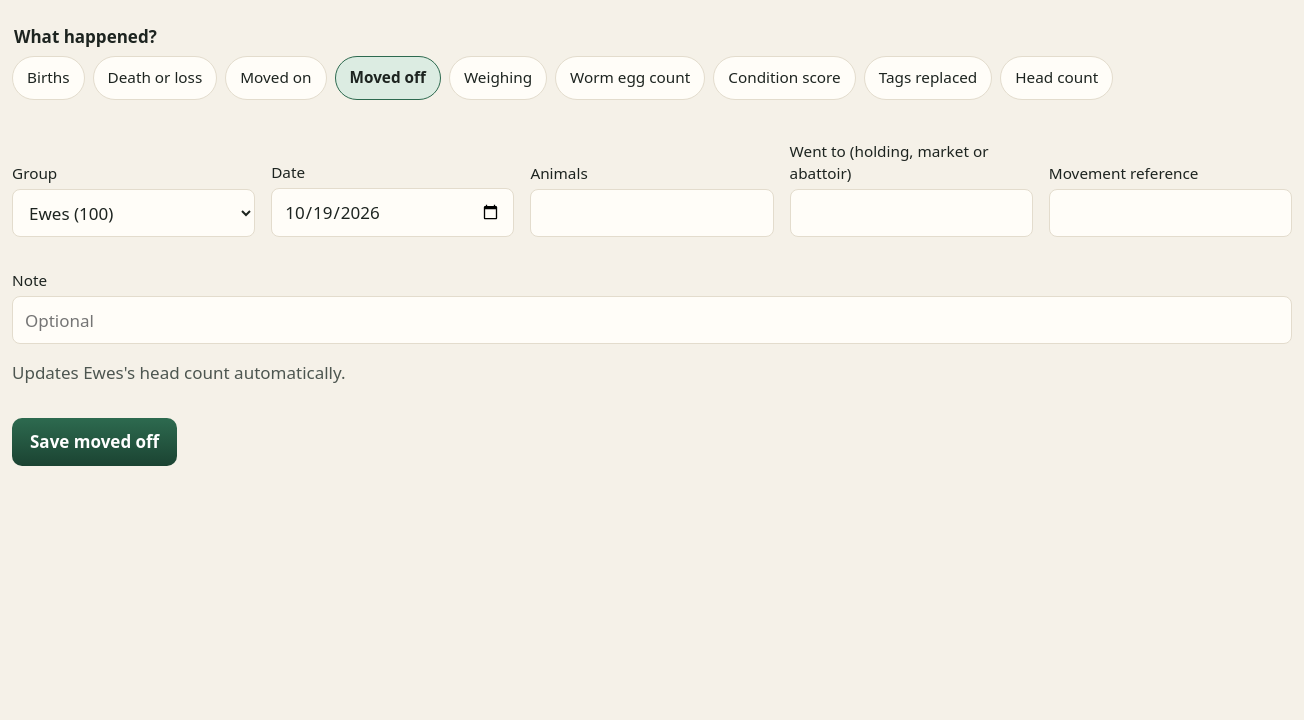
it: RegisterEventForm (v3) › asks where animals moved off to, and shows server errors
The width and height of the screenshot is (1304, 720).
Type "5" into the number field labelled "Animals" at (652, 213), box [530, 189, 774, 237]
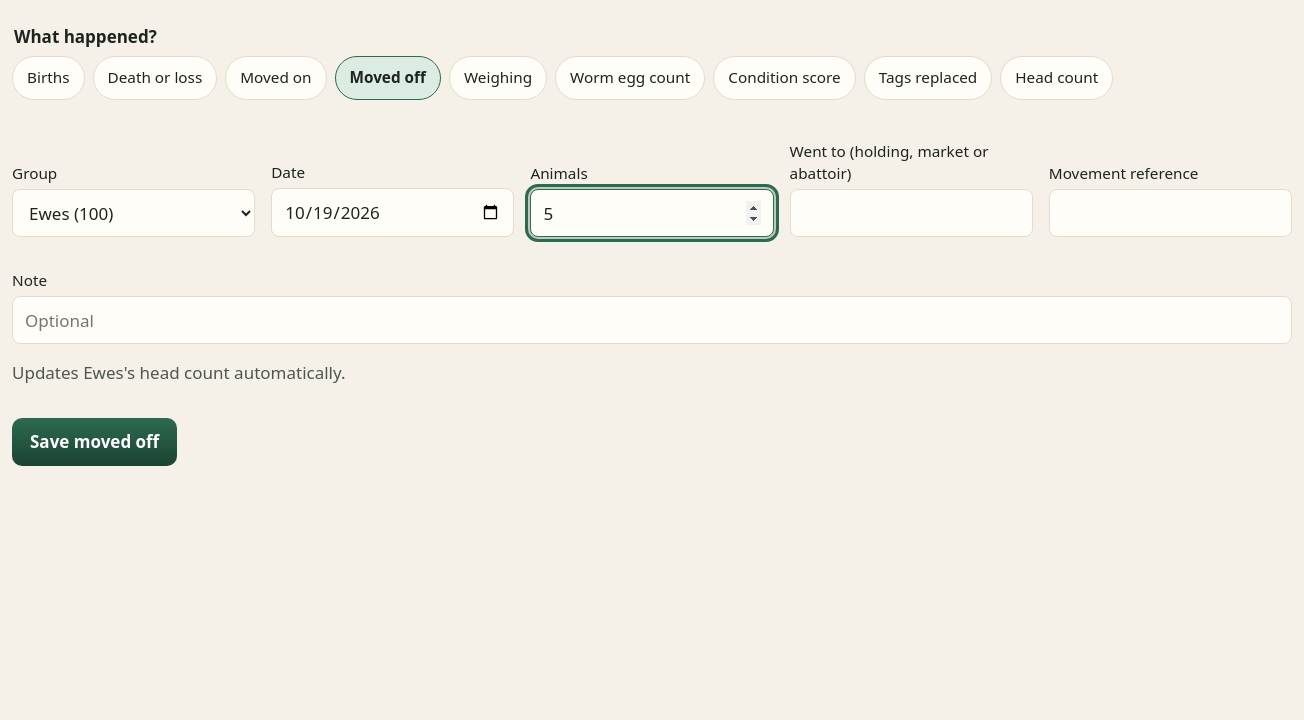
Type "Market" into the field labelled "Went to (holding, market or abattoir)" at (911, 213), box [790, 189, 1033, 237]
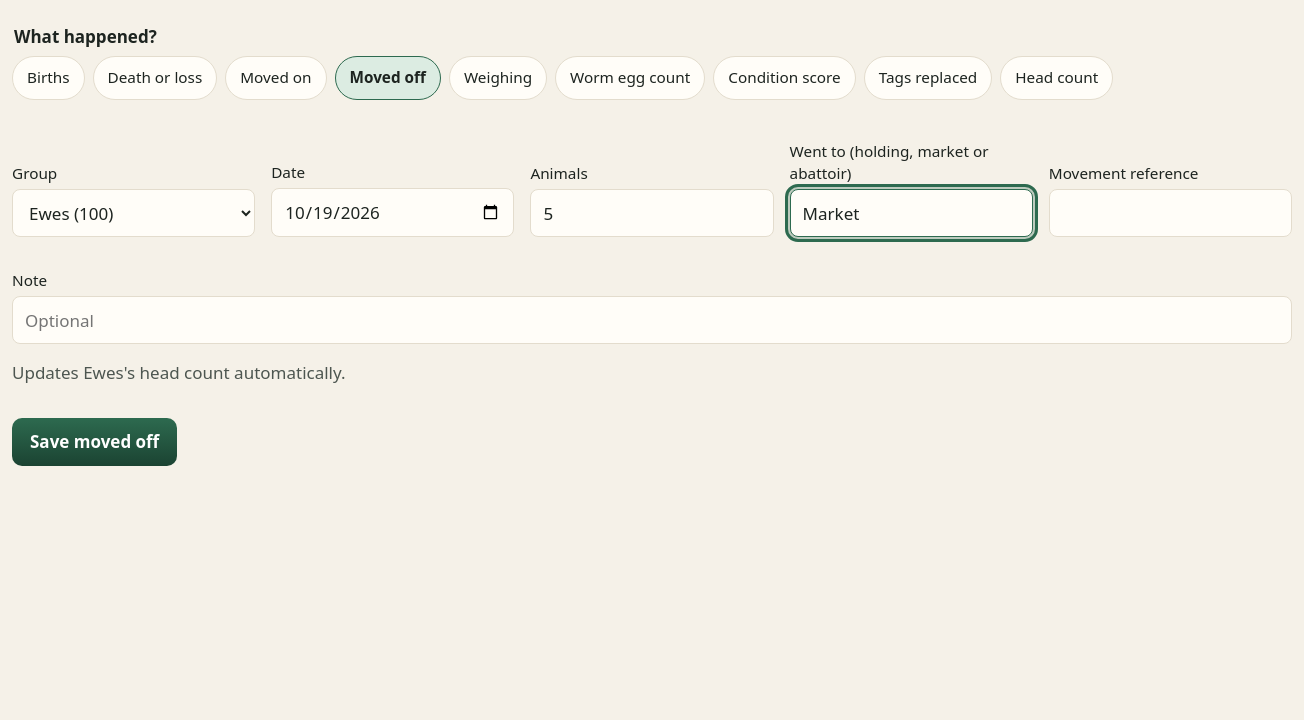
Click the button "Save moved off" at (95, 442), box [12, 418, 177, 466]
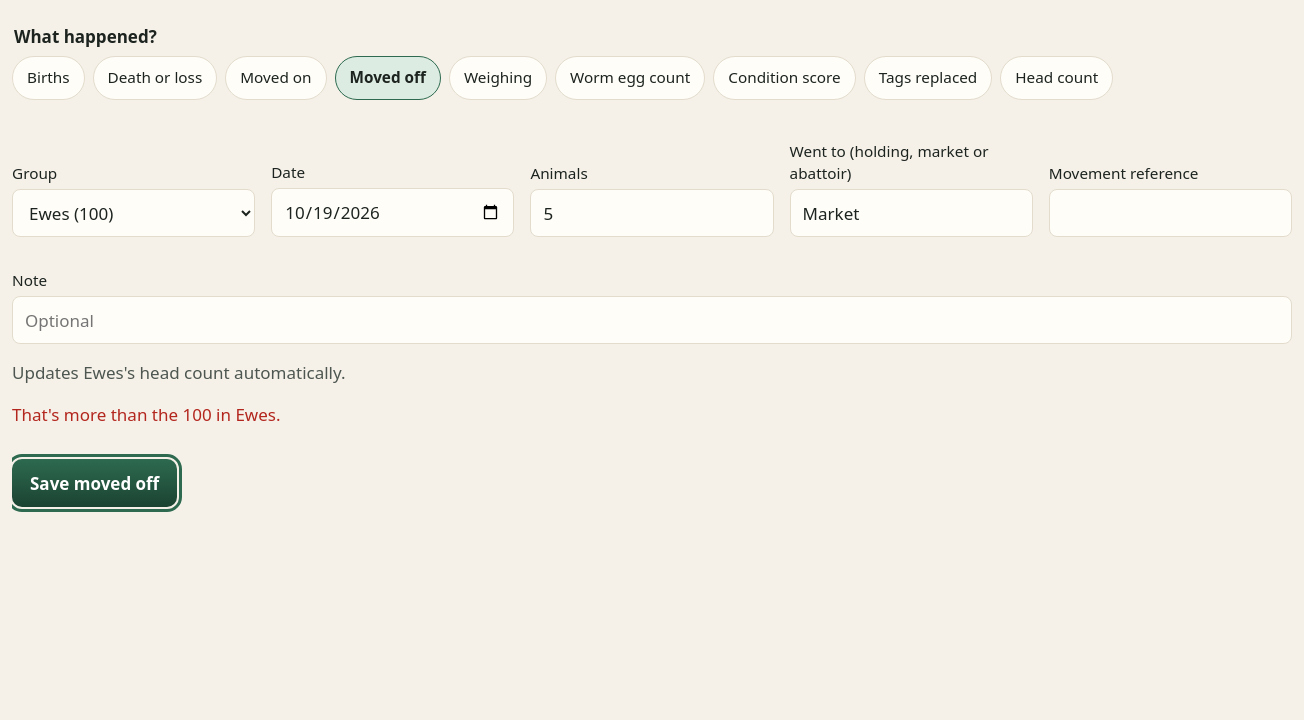
Check: the message shows "more than the 100", box [12, 403, 280, 426]
